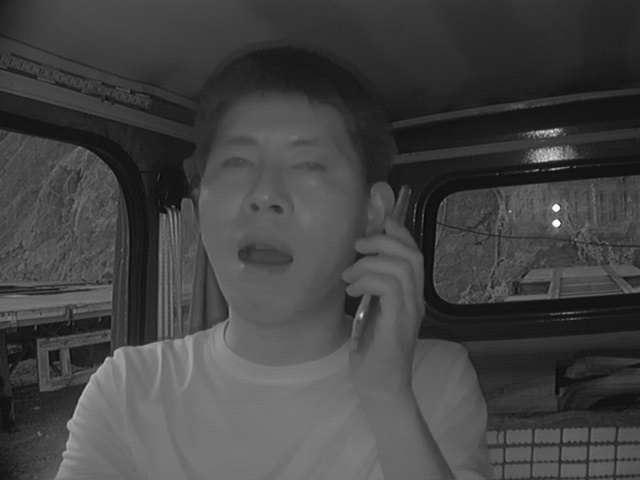hand: (346, 220, 430, 389)
